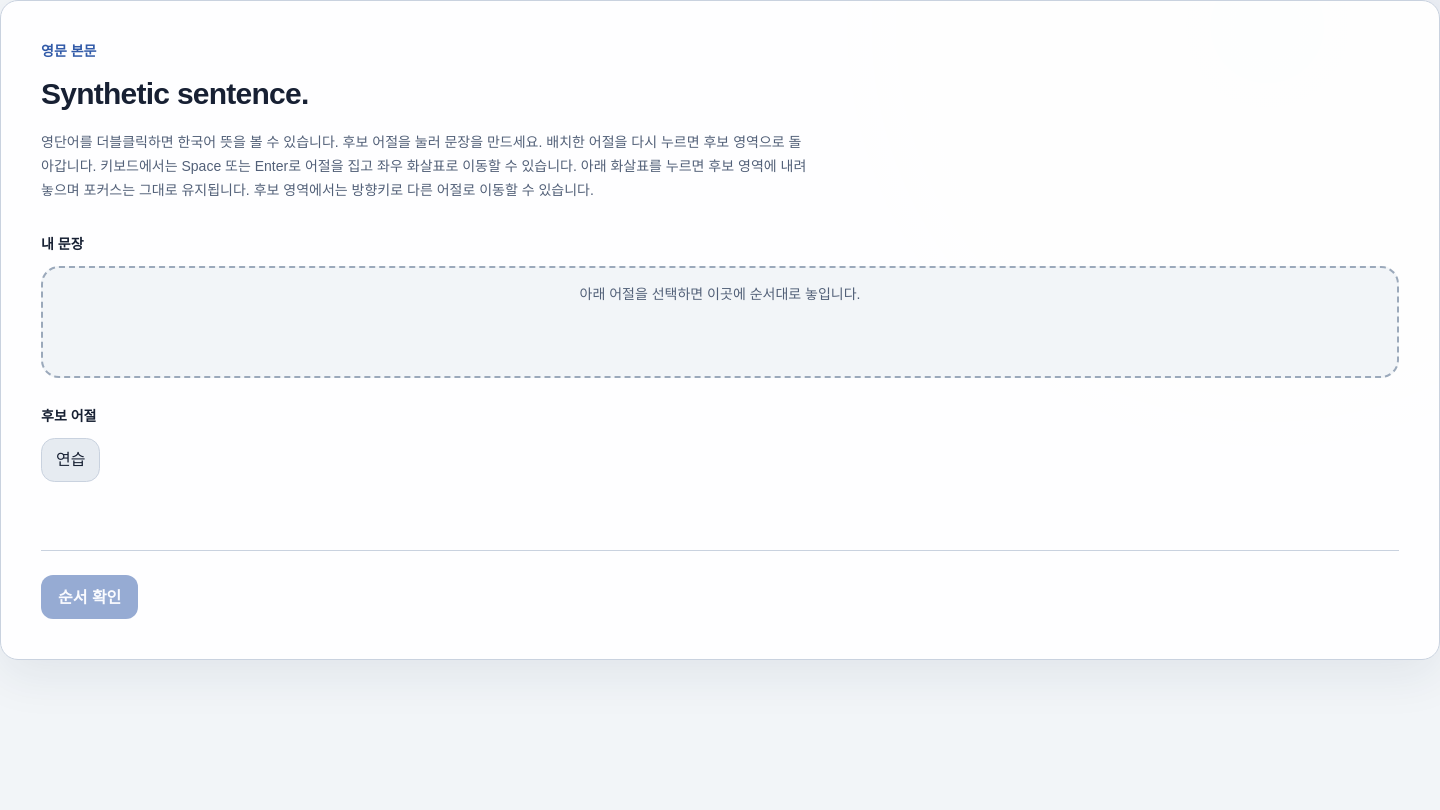
Test case: LessonPlayer › automatically advances after a correct book-practice answer
Step 1. Click the button with aria-label "연습 어절을 내 문장으로 이동" → coordinates (71, 460), box [41,438,100,482]
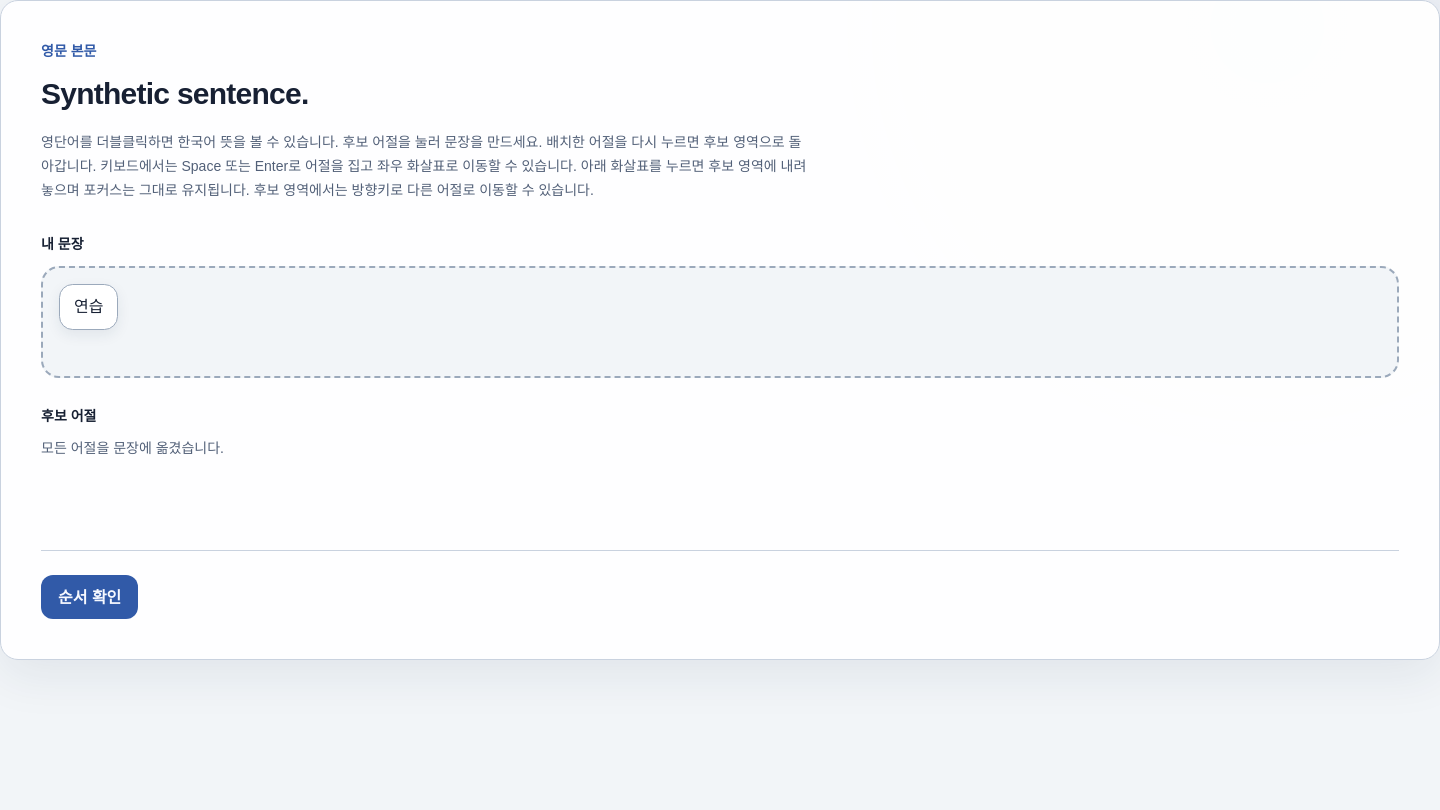
Step 2. Click the button "순서 확인" → coordinates (90, 597), box [41,575,138,619]
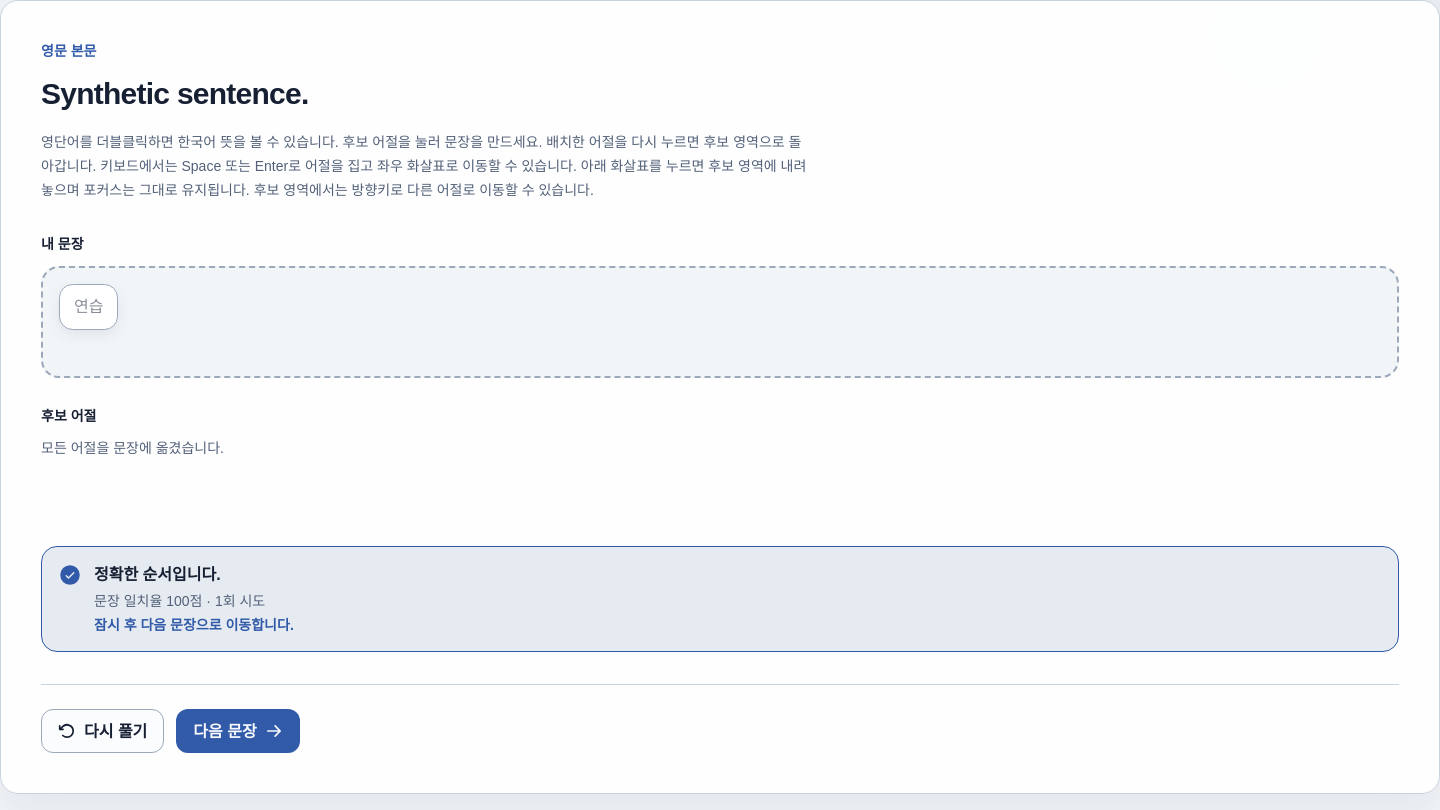
Now the text "잠시 후 다음 문장으로 이동합니다." is shown, box [94,615,294,635]
